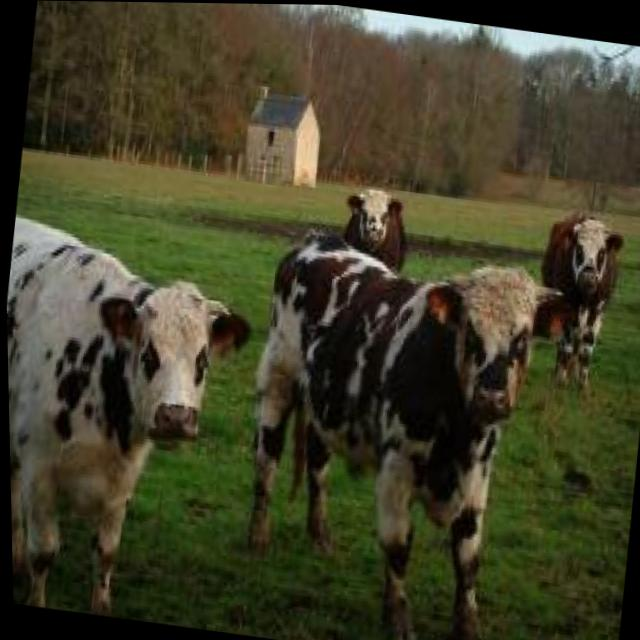cowFace: (80, 264, 249, 470), (399, 248, 567, 439), (557, 208, 626, 303), (339, 176, 412, 255)
